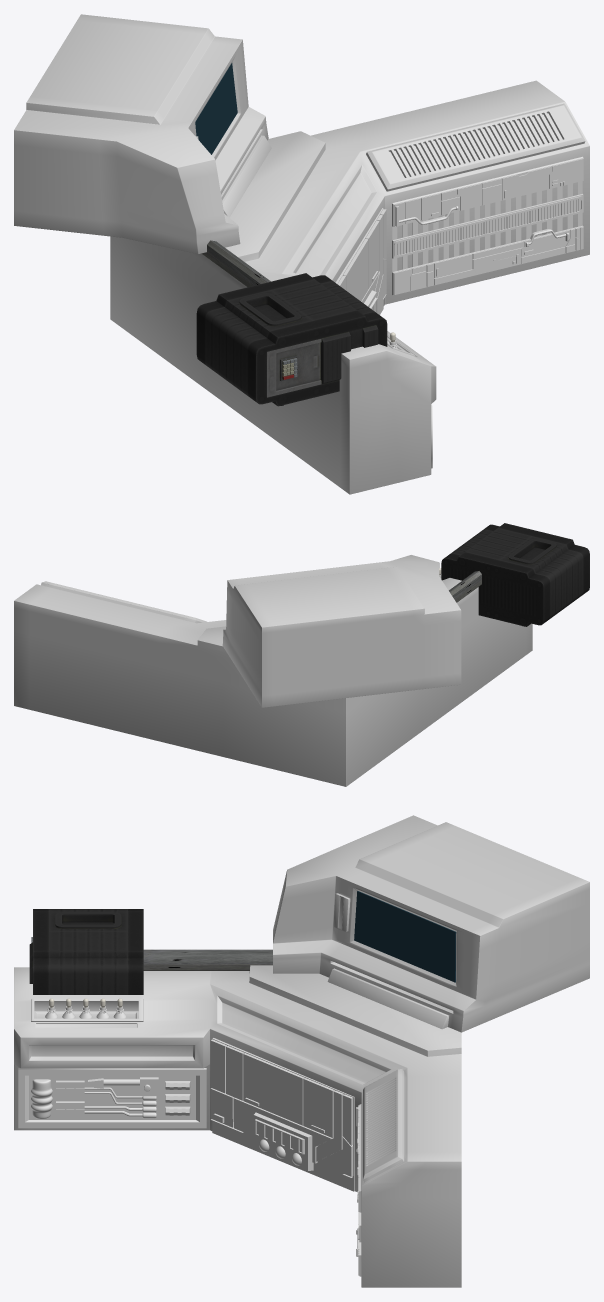
The model's file is Energy Machine Combined V1.fbx.
The picture shows the model from 3 angles, top to bottom: view 1: azimuth 30°, elevation 25°; view 2: azimuth 150°, elevation 25°; view 3: azimuth 270°, elevation 25°; orthographic projection. The views are drawn at different scales.
Visible parts, largest first — view 1: Plane.005, Hardware Device.001, Tile_06.001, Tile_02.001, Cube.007, Cube.006; view 2: Plane.005, Hardware Device.001, Cube.006; view 3: Plane.005, Tile_02.001, Tile_03.002, Hardware Device.001, Cube.007, Cube.006, Tile_06.001.
Part boxes in pixels (x1,y1,x2,y2): Plane.005: (14, 14, 589, 494); Hardware Device.001: (196, 273, 387, 406); Tile_06.001: (392, 156, 583, 295); Tile_02.001: (335, 208, 386, 314); Cube.007: (195, 63, 237, 154); Cube.006: (201, 240, 270, 287); Plane.005: (14, 555, 532, 786); Hardware Device.001: (441, 523, 589, 626); Cube.006: (449, 571, 481, 602); Plane.005: (14, 815, 589, 1287); Tile_02.001: (210, 1038, 354, 1191); Tile_03.002: (18, 1068, 206, 1128); Hardware Device.001: (29, 909, 143, 994); Cube.007: (354, 891, 456, 982); Cube.006: (143, 949, 272, 970); Tile_06.001: (356, 1104, 361, 1276).
Size of the model in its own units: 452 by 193 by 440.
Materials: 9 (2 with a texture image).
